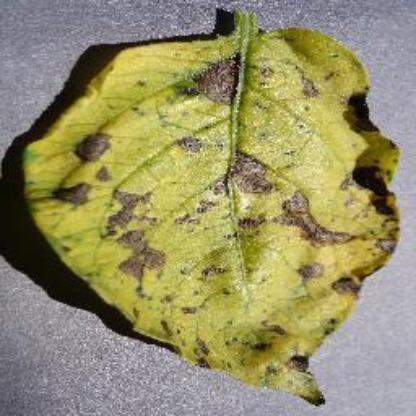Early-Blight: (17, 8, 407, 406)
